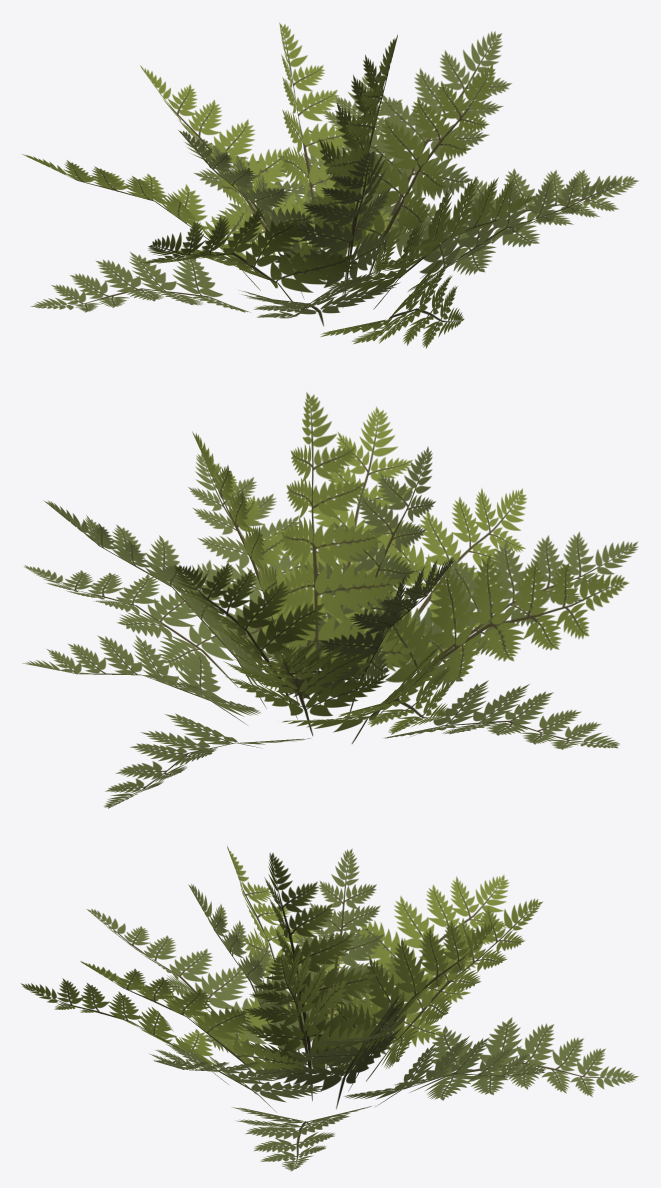
File: Fern_1c.glb
3 renders of one model, top to bottom at view 1: azimuth 30°, elevation 25°; view 2: azimuth 150°, elevation 25°; view 3: azimuth 270°, elevation 25°, orthographic. The views are drawn at different scales.
Visible parts, largest first — view 1: Fern_1c; view 2: Fern_1c; view 3: Fern_1c.
Part boxes in pixels (x1=…): Fern_1c: x1=22, y1=22, x2=638, y2=348; Fern_1c: x1=22, y1=392, x2=638, y2=808; Fern_1c: x1=21, y1=845, x2=638, y2=1171.
Bounding box in the file's own units: 2.5 × 1.12 × 2.44.
Materials: 1 (1 with a texture image).
